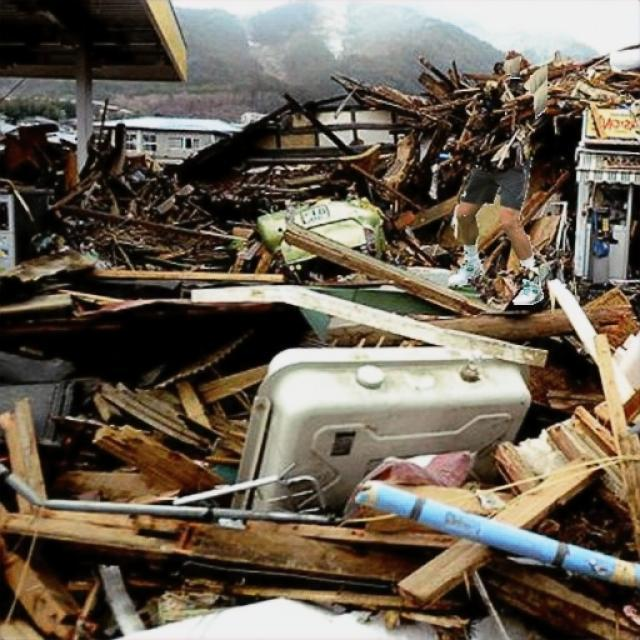Person in Rubble: (448, 56, 546, 304)
